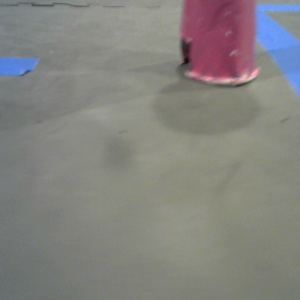right: (177, 1, 261, 87)
